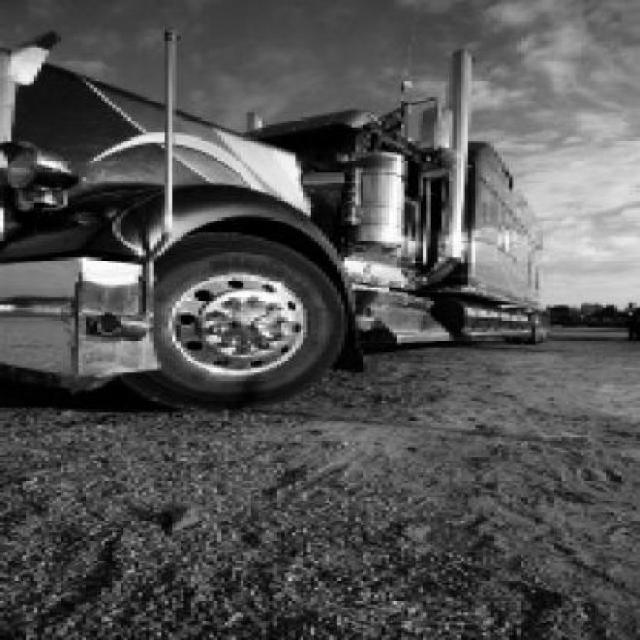Box Truck: (0, 31, 548, 408)
